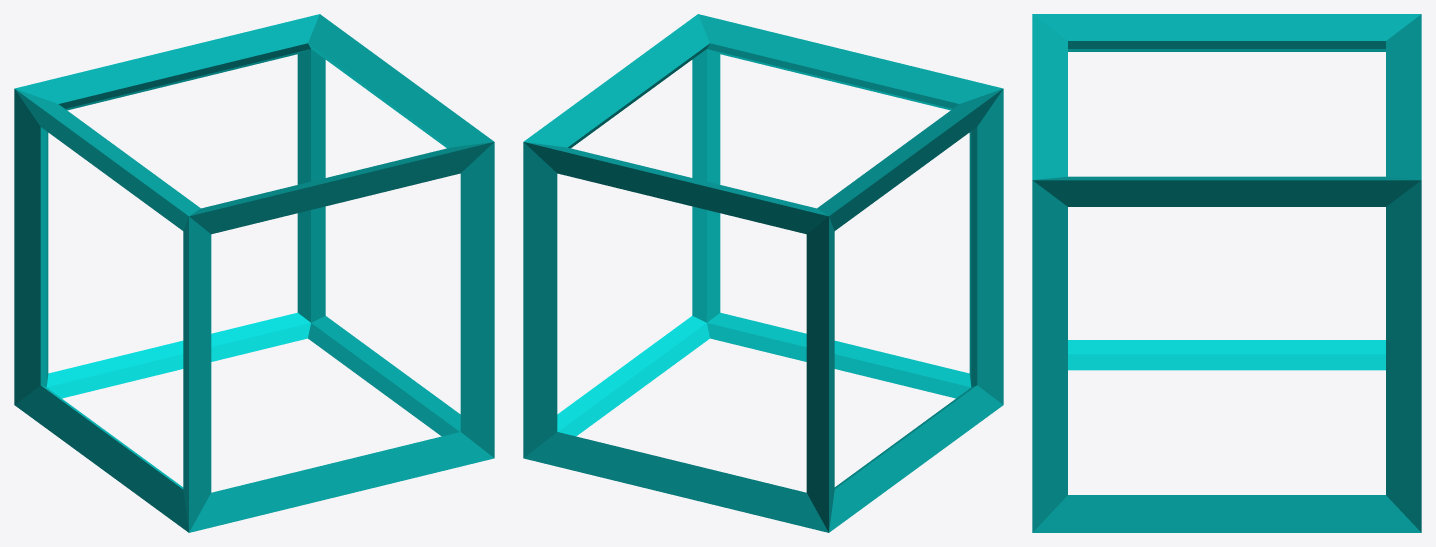
Rendered from badguy_spawner.glb.
3 views of the same model, side by side, from view 1: azimuth 30°, elevation 25°; view 2: azimuth 150°, elevation 25°; view 3: azimuth 270°, elevation 25° (orthographic). The views are drawn at different scales.
Visible parts, largest first — view 1: Cube; view 2: Cube; view 3: Cube.
Part boxes in pixels (bbox=[...]): Cube: bbox=[14, 14, 494, 532]; Cube: bbox=[523, 14, 1003, 532]; Cube: bbox=[1032, 14, 1421, 532].
Size of the model in its own units: 2.17 by 2.14 by 2.14.
